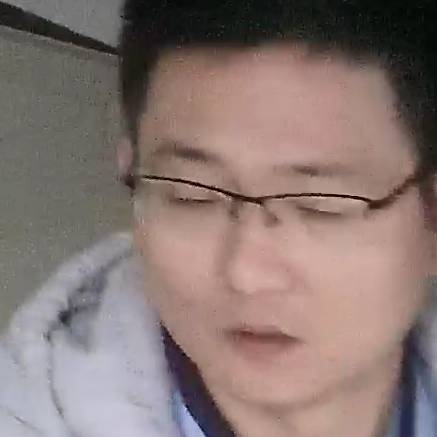gg: (75, 44, 418, 387)
